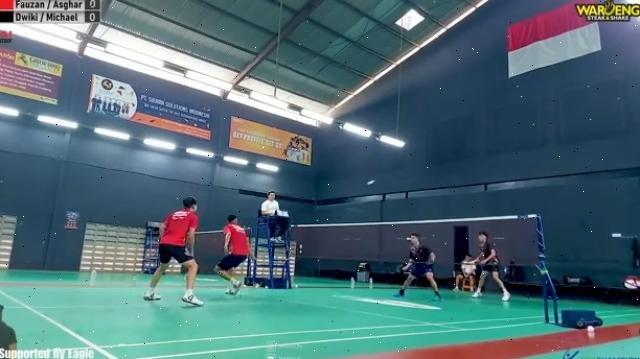Shuttlecock: (366, 178, 376, 186)
